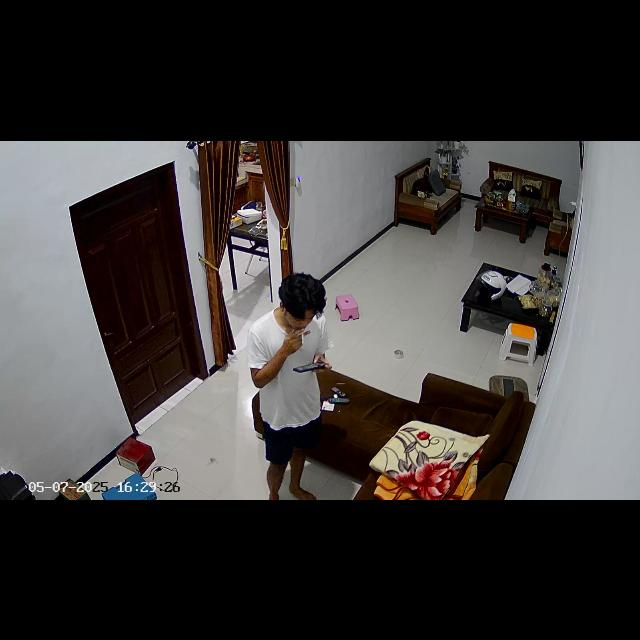rokok: (299, 332, 305, 346)
